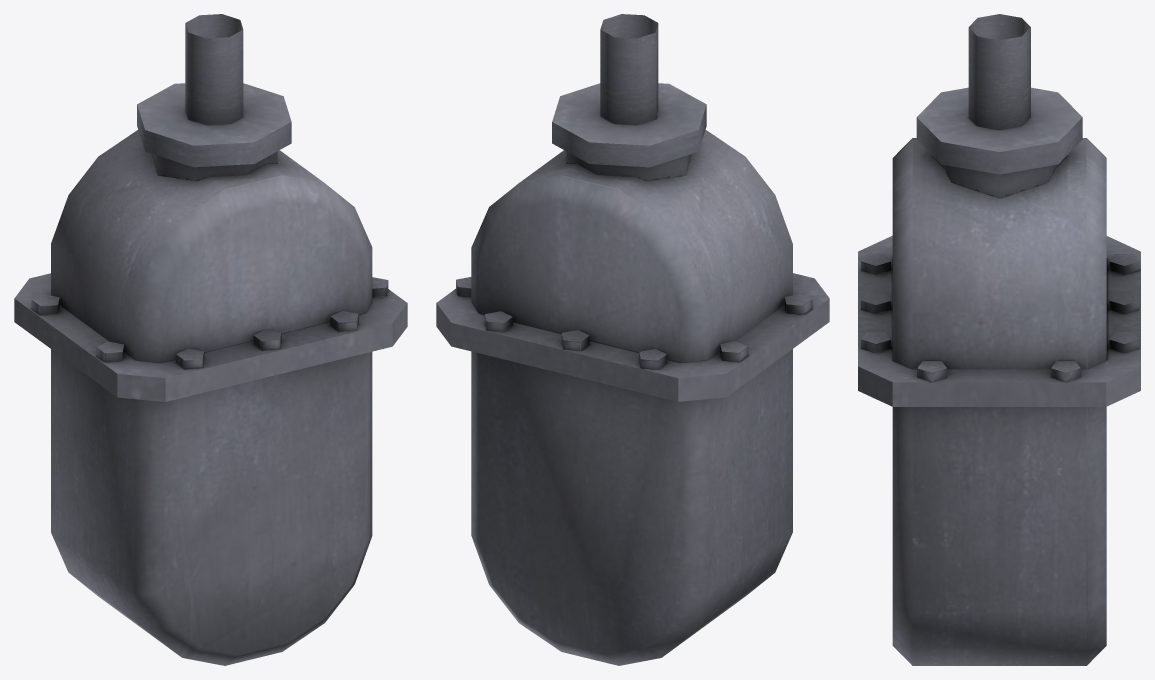
The model's file is valve_01.FBX.
The picture shows the model from 3 angles, left to right: view 1: azimuth 30°, elevation 25°; view 2: azimuth 150°, elevation 25°; view 3: azimuth 270°, elevation 25°; orthographic projection. The views are drawn at different scales.
Visible parts, largest first — view 1: Object002; view 2: Object002; view 3: Object002.
Boxes of the visible parts, <box> form: Object002: <box>14,14,407,665</box>; Object002: <box>436,14,829,665</box>; Object002: <box>858,14,1140,665</box>.
Size of the model in its own units: 31.13 by 61.64 by 25.34.
